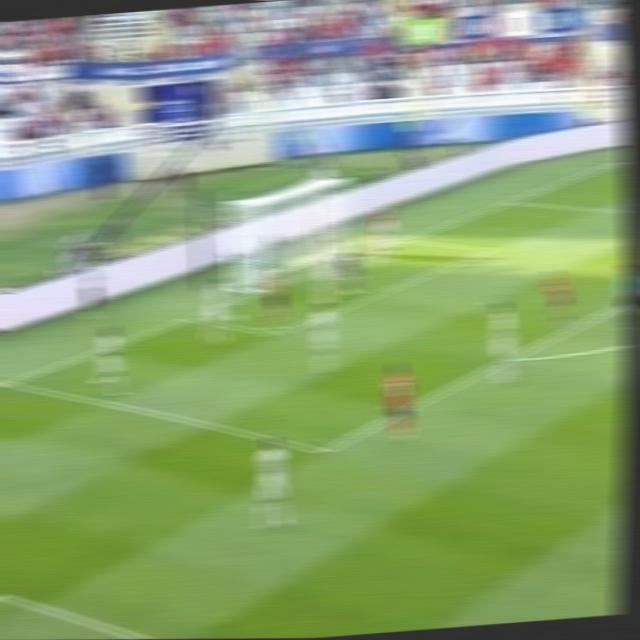bigarea_bottom_inner: (311, 440, 336, 459)
bigarea_top_inner: (0, 373, 18, 390)
bigarea_top_outter: (505, 195, 522, 204)
corner: (613, 155, 628, 163)
smallarea_bottom_inner: (263, 326, 283, 342)
smallarea_bottom_outter: (182, 313, 196, 322)
smallarea_top_outter: (401, 232, 418, 241)
